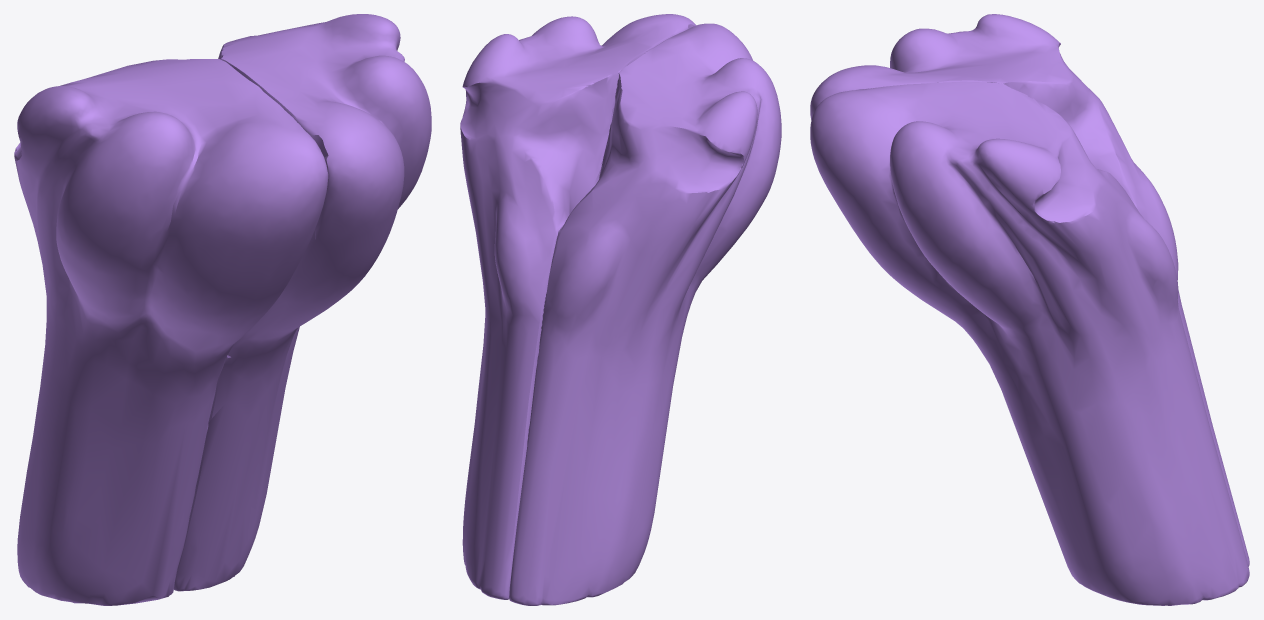
Rendered from medulla.glb.
3 views of the same model, side by side, from view 1: azimuth 30°, elevation 25°; view 2: azimuth 150°, elevation 25°; view 3: azimuth 270°, elevation 25° (orthographic). The views are drawn at different scales.
Visible parts, largest first — view 1: grp1; view 2: grp1; view 3: grp1.
Part boxes in pixels (x1,y1,x2,y2): grp1: (14, 14, 431, 605); grp1: (460, 14, 781, 605); grp1: (810, 14, 1249, 605).
Bounding box in the file's own units: 0.0267 × 0.0413 × 0.0332.
